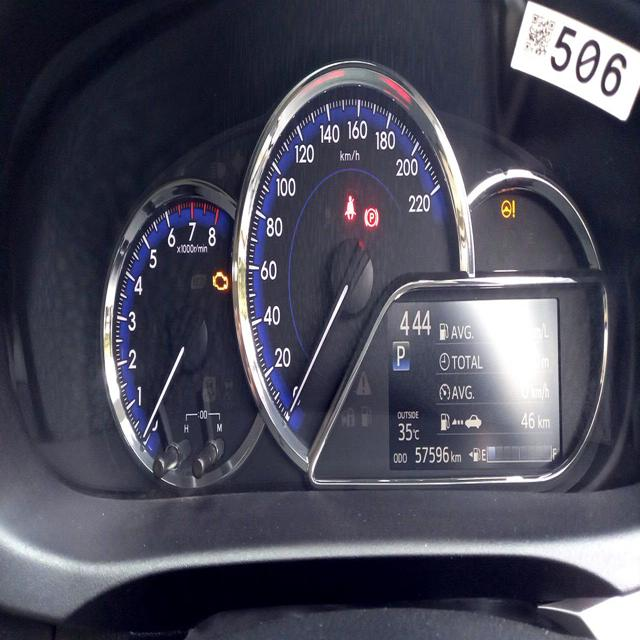odometer: (413, 443, 450, 465)
